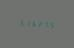five: (17, 18, 22, 27), (48, 20, 53, 29)
one: (23, 19, 28, 27)
seven: (42, 20, 47, 28)
six: (30, 19, 35, 27)
two: (36, 19, 41, 28)
